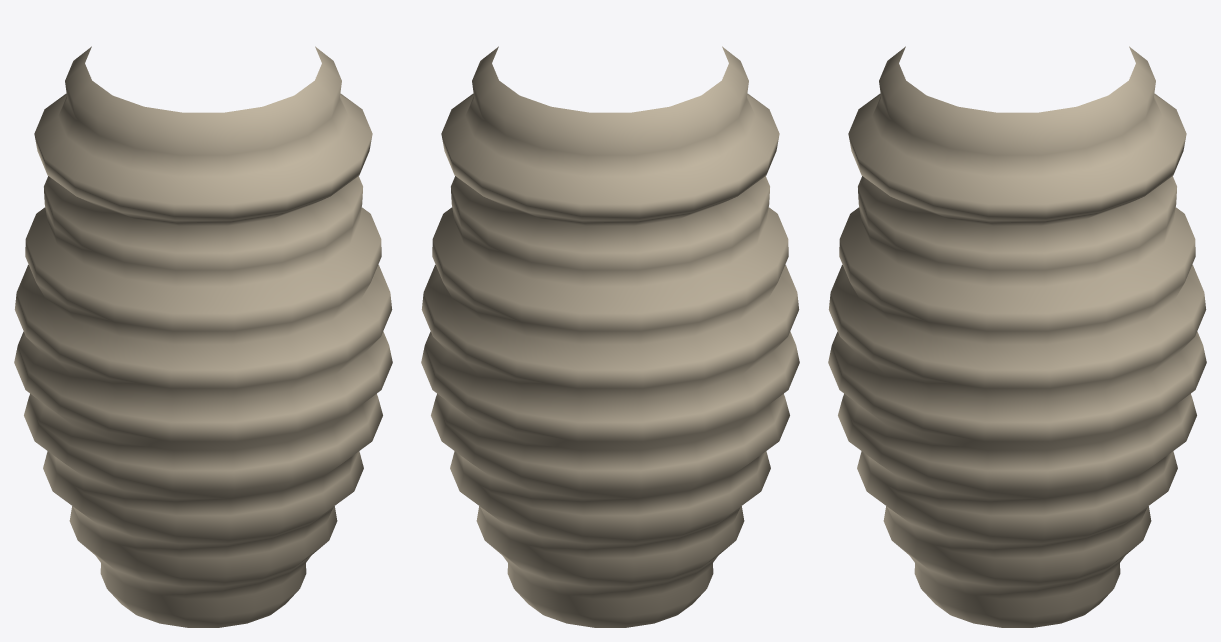
File: vase.glb
3 views of the same model, side by side, from view 1: azimuth 30°, elevation 25°; view 2: azimuth 150°, elevation 25°; view 3: azimuth 270°, elevation 25° (orthographic).
Size of the model in its own units: 0.8959 by 1.4 by 0.9098.
